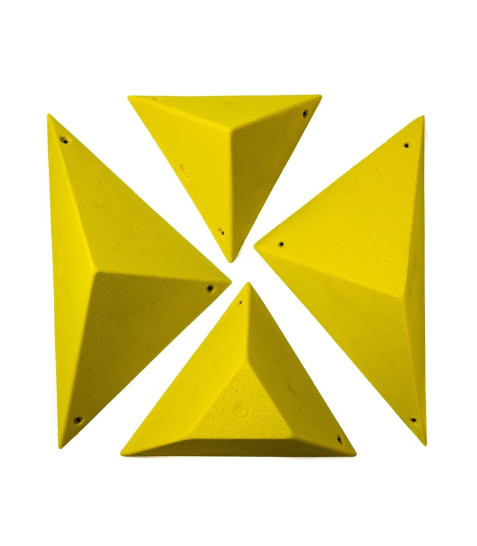volume: (46, 112, 228, 446), (253, 117, 424, 441), (119, 283, 354, 455), (128, 95, 315, 260)
